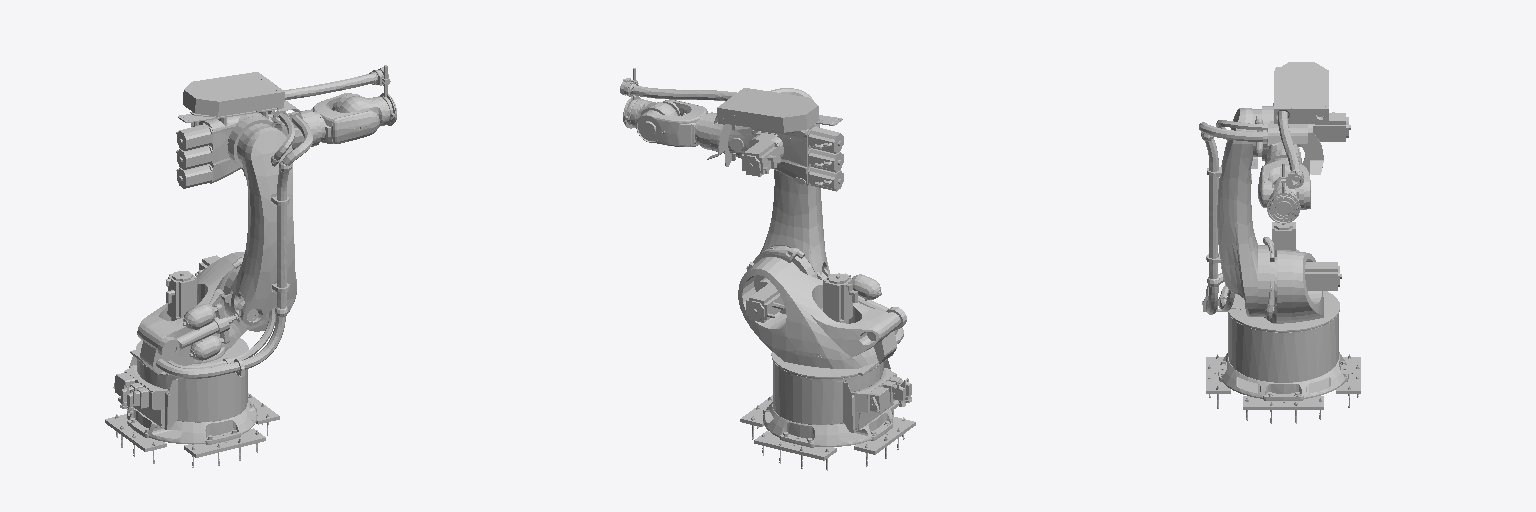
Rendered from KUKA.obj.
3 views of the same model, side by side, from view 1: azimuth 30°, elevation 25°; view 2: azimuth 150°, elevation 25°; view 3: azimuth 270°, elevation 25° (orthographic).
Visible parts, largest first — view 1: object 1, Object001; view 2: object 1; view 3: object 1, Object001.
Boxes of the visible parts, <box> form: object 1: <box>105,65,396,467</box>; Object001: <box>156,113,313,378</box>; object 1: <box>620,68,915,470</box>; object 1: <box>1201,62,1360,423</box>; Object001: <box>1199,120,1267,314</box>.
Bounding box in the file's own units: 252 × 294 × 130.